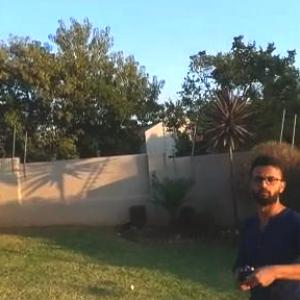follow: (228, 147, 300, 299)
